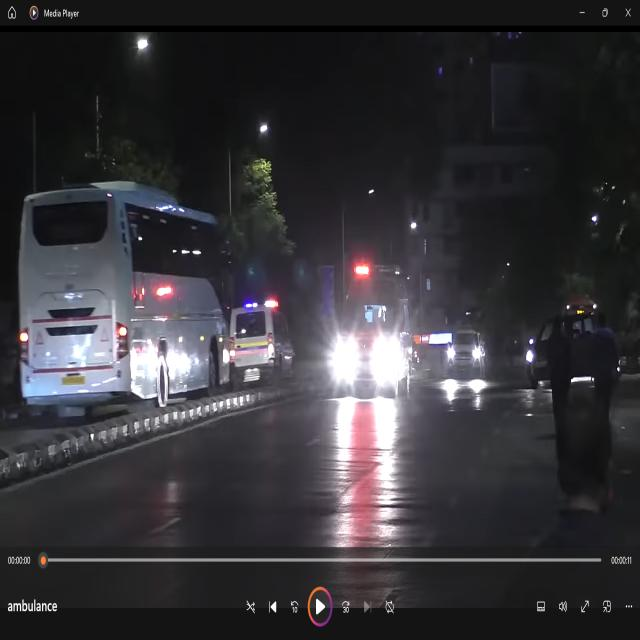ambulance: (329, 256, 412, 404)
